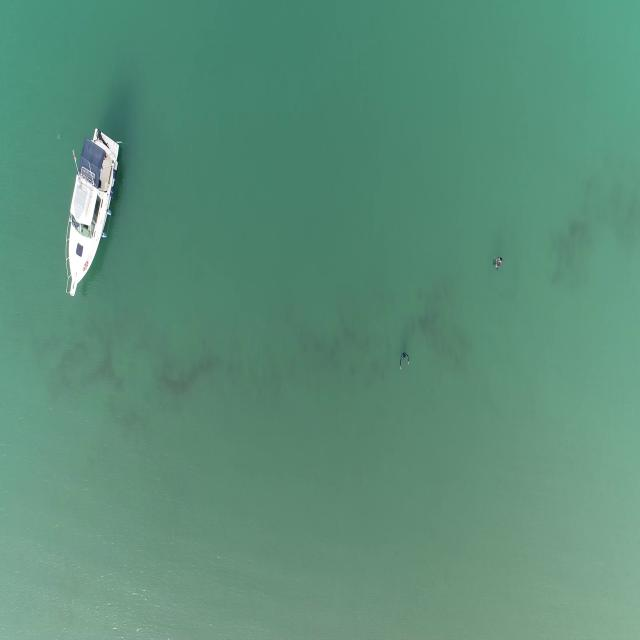boat: (60, 127, 121, 302)
person: (398, 350, 411, 373), (491, 254, 502, 278)
